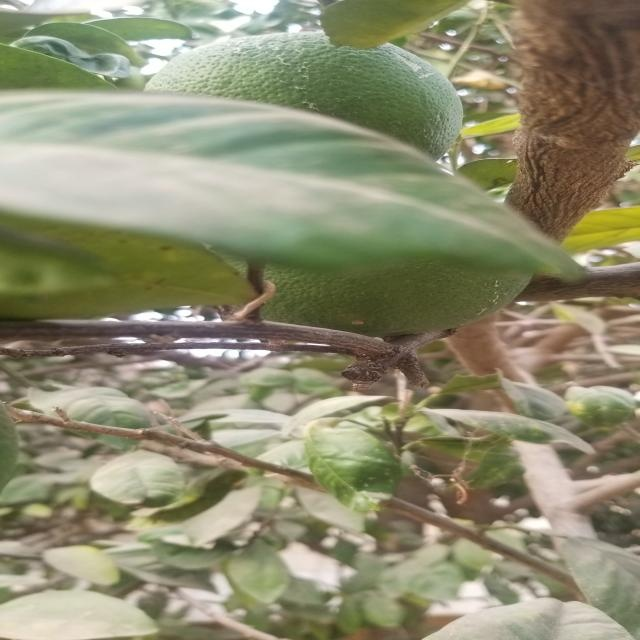agrume: (147, 35, 513, 155)
